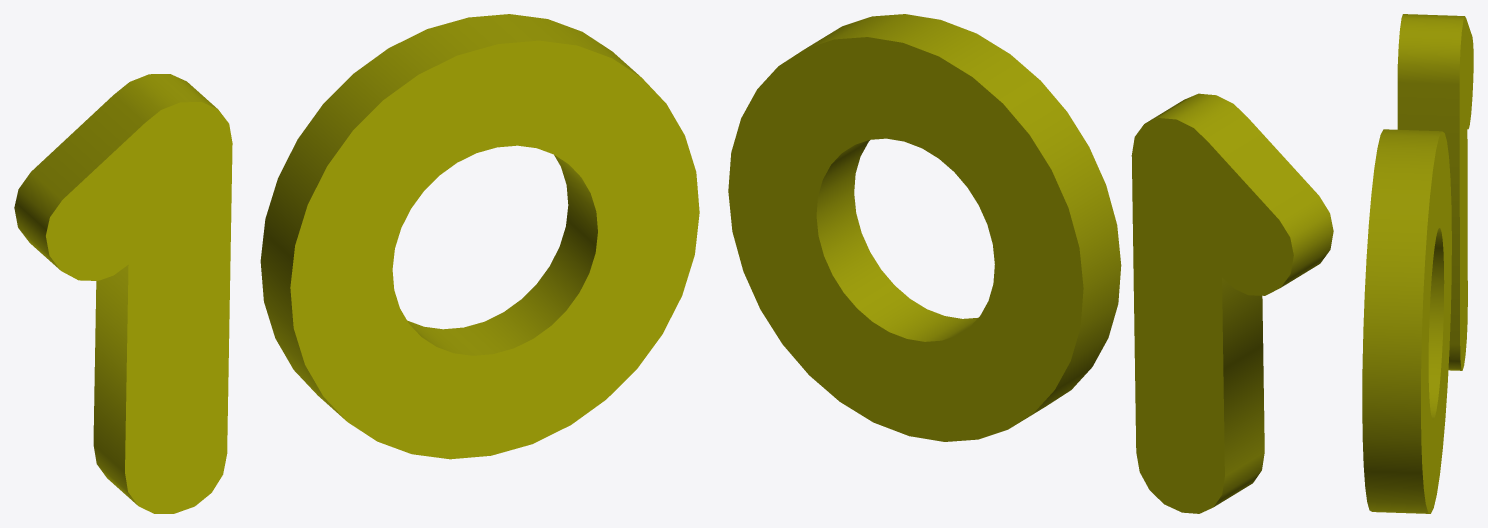
File: choice1.fbx
3 renders of one model, left to right at view 1: azimuth 30°, elevation 25°; view 2: azimuth 150°, elevation 25°; view 3: azimuth 270°, elevation 25°, orthographic. The views are drawn at different scales.
Visible parts, largest first — view 1: Model; view 2: Model; view 3: Model.
Boxes of the visible parts, <box> form: Model: <box>14,14,699,513</box>; Model: <box>728,14,1333,513</box>; Model: <box>1362,14,1473,513</box>.
Size of the model in its own units: 78.45 by 49.53 by 14.21.
